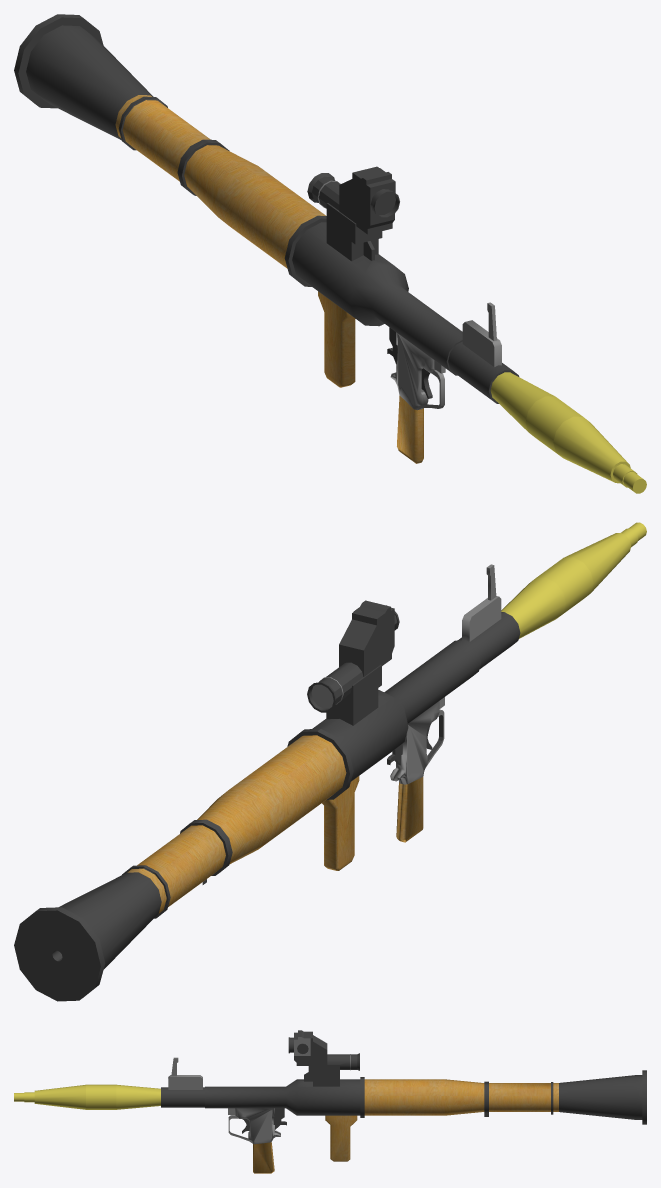
File: RPG.fbx
3 views of the same model, one above another, from view 1: azimuth 30°, elevation 25°; view 2: azimuth 150°, elevation 25°; view 3: azimuth 270°, elevation 25° (orthographic). The views are drawn at different scales.
Parts seen in each view (by area): view 1: rpg_7_1, grnada1; view 2: rpg_7_1, grnada1; view 3: rpg_7_1, grnada1.
Boxes of the visible parts, <box> form: rpg_7_1: <box>14,14,519,463</box>; grnada1: <box>490,372,646,493</box>; rpg_7_1: <box>14,564,520,1001</box>; grnada1: <box>501,522,646,638</box>; rpg_7_1: <box>161,1030,646,1173</box>; grnada1: <box>14,1084,160,1109</box>.
Bounding box in the file's own units: 1.61 × 4.53 × 18.67.
